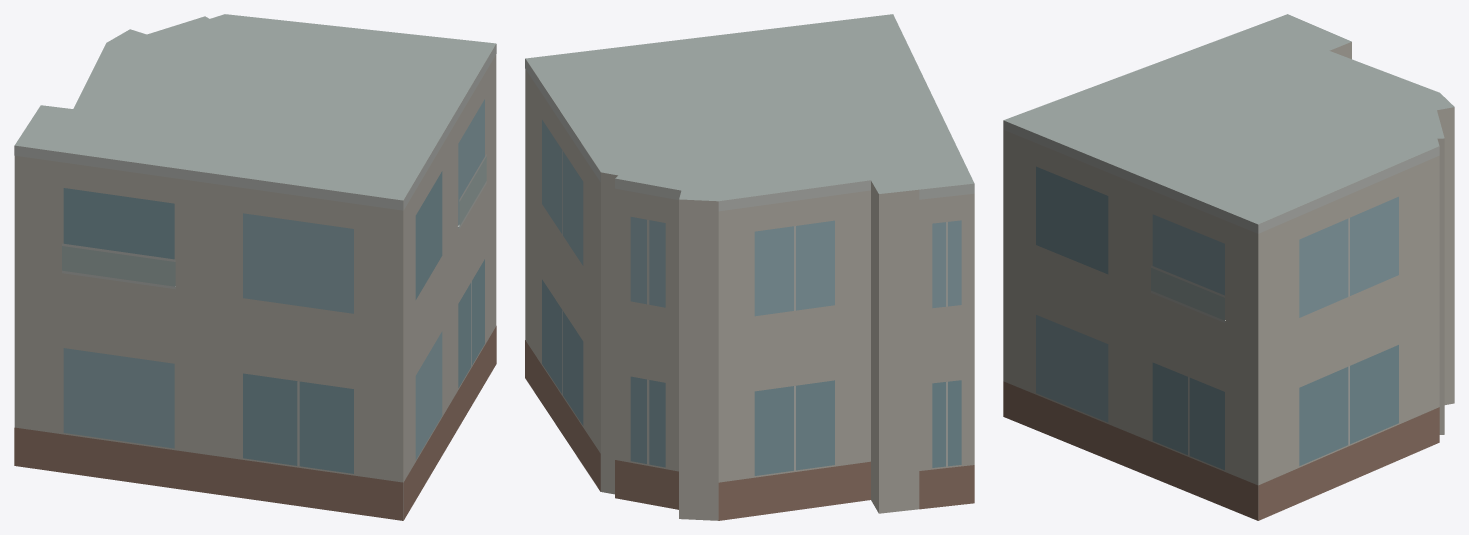
The model's file is survey-upis-32678816.glb.
The picture shows the model from 3 angles, left to right: view 1: azimuth 30°, elevation 25°; view 2: azimuth 150°, elevation 25°; view 3: azimuth 270°, elevation 25°; orthographic projection. The views are drawn at different scales.
Parts seen in each view (by area): view 1: survey-upis-32678816.tmp; view 2: survey-upis-32678816.tmp; view 3: survey-upis-32678816.tmp.
Boxes of the visible parts, x1,y1,x2,y2 form: survey-upis-32678816.tmp: [14, 14, 496, 520]; survey-upis-32678816.tmp: [525, 14, 974, 520]; survey-upis-32678816.tmp: [1003, 14, 1454, 520].
Bounding box in the file's own units: 11.74 × 7.7 × 10.64.
